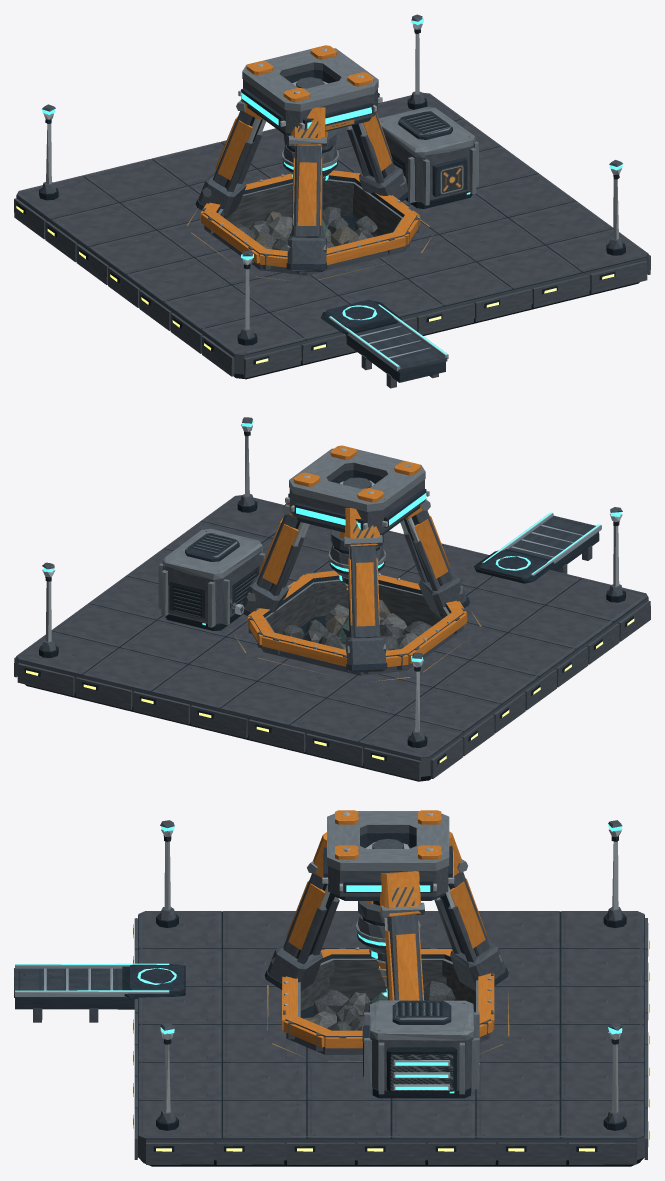
The model's file is EX01_ExtractorBasico_Distancia.fbx.
3 renders of one model, top to bottom at view 1: azimuth 30°, elevation 25°; view 2: azimuth 150°, elevation 25°; view 3: azimuth 270°, elevation 25°, orthographic. The views are drawn at different scales.
Parts seen in each view (by area): view 1: EstructuraDistante_1, BrocaDistante_1; view 2: EstructuraDistante_1, BrocaDistante_1; view 3: EstructuraDistante_1, BrocaDistante_1.
Boxes of the visible parts, x1,y1,x2,y2 form: EstructuraDistante_1: (14,14,650,388); BrocaDistante_1: (281,145,339,182); EstructuraDistante_1: (14,417,650,781); BrocaDistante_1: (328,545,385,589); EstructuraDistante_1: (14,810,650,1166); BrocaDistante_1: (355,914,420,993).
Bounding box in the file's own units: 6.87 × 2.91 × 7.94.
